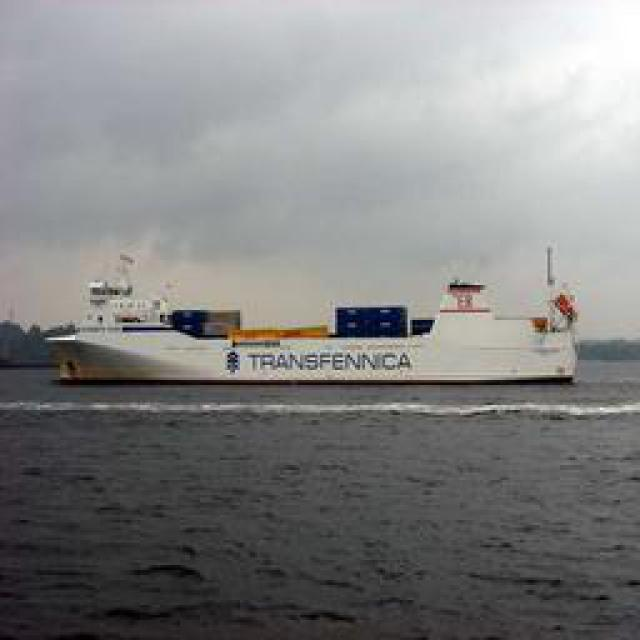Ship: (50, 261, 583, 391)
